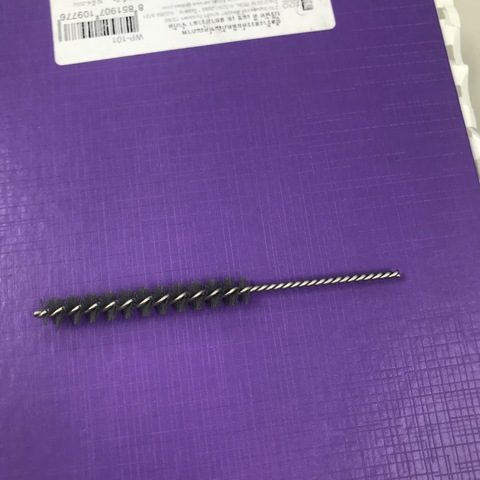Twist Brush-A: (30, 266, 405, 329)
